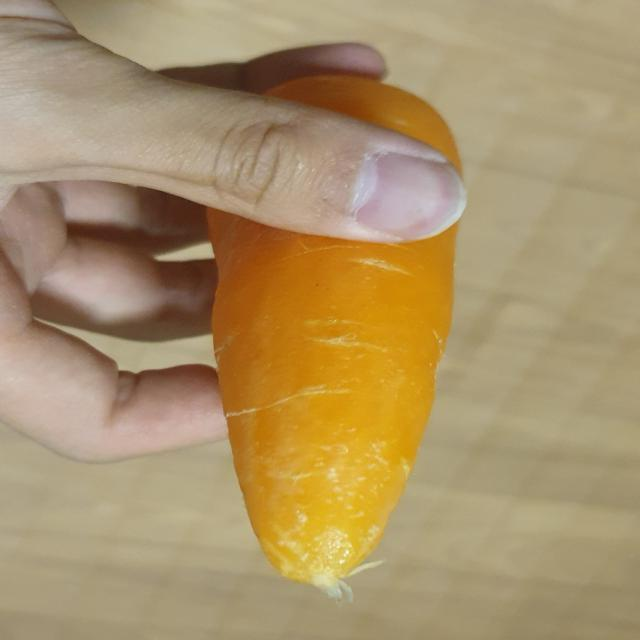carrot: (191, 68, 483, 600)
